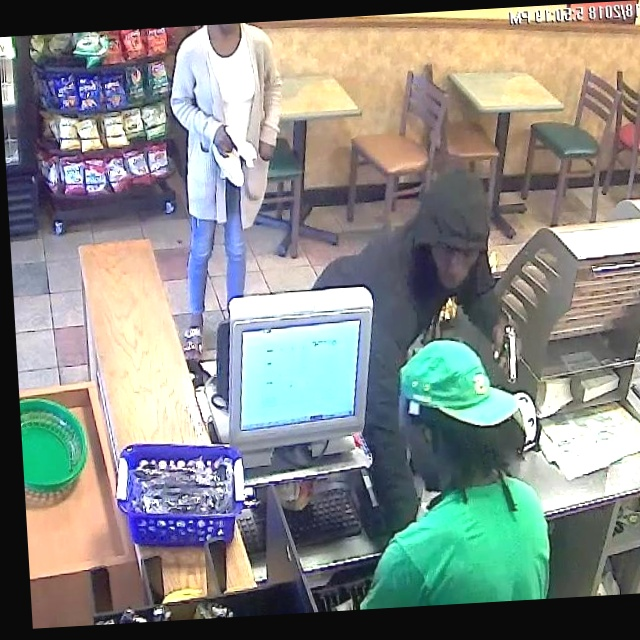gun: (489, 313, 532, 386)
